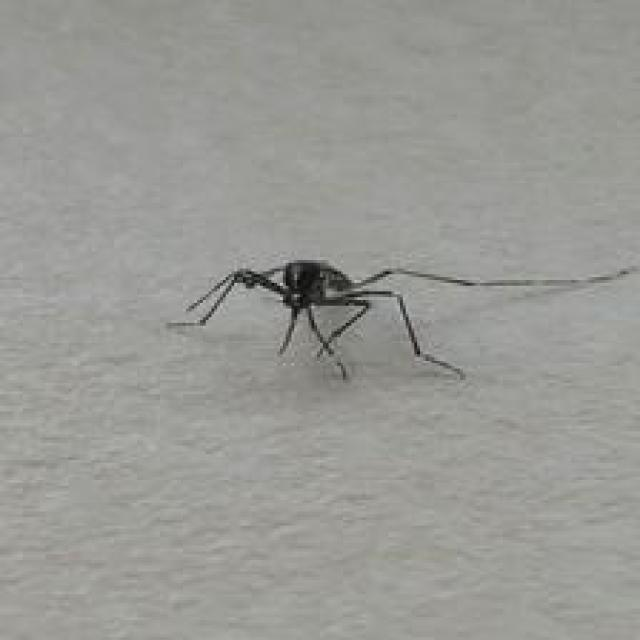Aedes albopictus: (165, 255, 640, 384)
